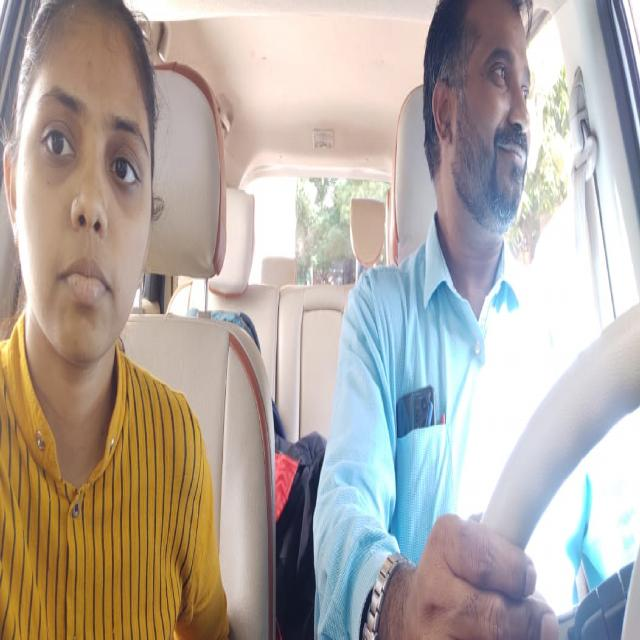LeftRight: (422, 0, 542, 246)
person: (7, 6, 161, 346)
